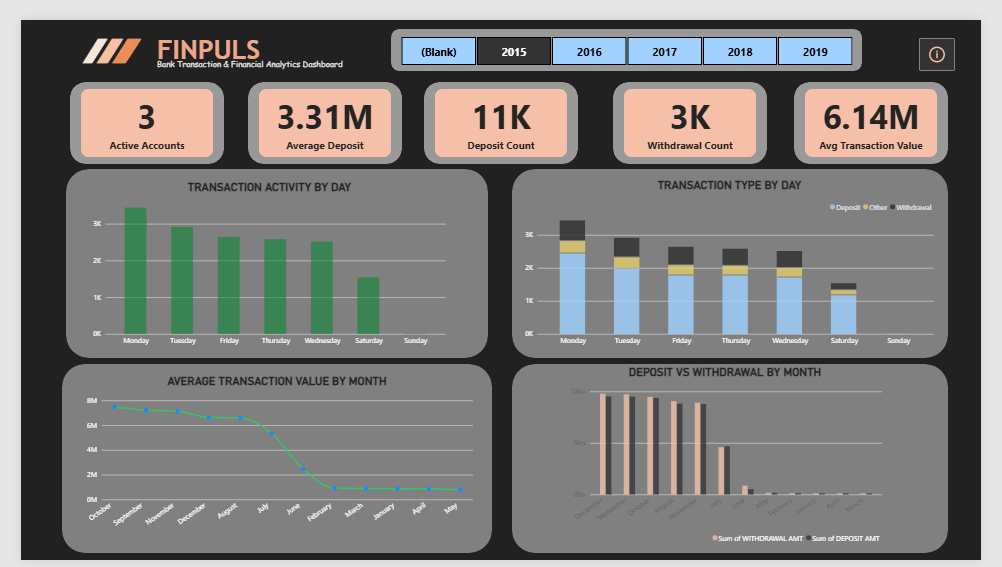

Layout of this report page (visuals, bound fields, positions):
{"tool":"powerbi","page":{"name":"Page 2","canvas":[1920,1080],"ordinal":1},"visuals":[{"type":"shape","box":[740,18,942,84],"z":0},{"type":"shape","box":[982,298,872,378],"z":1},{"type":"shape","box":[82,688,860,378],"z":2},{"type":"shape","box":[90,298,844,378],"z":3},{"type":"shape","box":[982,688,872,378],"z":4},{"type":"shape","box":[1546,124,308,164],"z":5},{"type":"shape","box":[1184,124,308,164],"z":6},{"type":"shape","box":[806,124,308,164],"z":7},{"type":"shape","box":[454,124,308,164],"z":8},{"type":"shape","box":[98,124,308,164],"z":9},{"type":"textbox","box":[272,28,214,96],"z":10},{"type":"textbox","box":[272,76,762.9,51.4],"z":11},{"type":"image","box":[58,0,246,124],"z":12},{"type":"cardVisual","fields":{"Data":["FinPulse_PowerBI.Active Accounts"]},"box":[120,138,264,136],"z":13},{"type":"cardVisual","fields":{"Data":["FinPulse_PowerBI.Average Deposit"]},"box":[476,138,264,136],"z":14},{"type":"cardVisual","fields":{"Data":["FinPulse_PowerBI.Deposit Count"]},"box":[828,138,264,136],"z":15},{"type":"cardVisual","fields":{"Data":["FinPulse_PowerBI.Withdrawal Count"]},"box":[1206,138,264,136],"z":16},{"type":"cardVisual","fields":{"Data":["FinPulse_PowerBI.Avg Transaction Value"]},"box":[1568,138,264,136],"z":17},{"type":"clusteredColumnChart","title":"TRANSACTION ACTIVITY BY DAY","fields":{"Category":["FinPulse_PowerBI.DAY NAME"],"Y":["CountNonNull(FinPulse_PowerBI.Account No)"]},"box":[144,320,706,336],"z":18},{"type":"columnChart","title":"TRANSACTION TYPE BY DAY","fields":{"Category":["FinPulse_PowerBI.DAY NAME"],"Series":["FinPulse_PowerBI.TRANSACTION TYPE"],"Y":["FinPulse_PowerBI.Total Transactions"]},"box":[1008,316,818,340],"z":19},{"type":"lineChart","title":"AVERAGE TRANSACTION VALUE BY MONTH","fields":{"Category":["FinPulse_PowerBI.MONTH NAME"],"Y":["FinPulse_PowerBI.Avg Transaction Value"]},"box":[120,708,784,322],"z":20},{"type":"clusteredColumnChart","title":"DEPOSIT VS WITHDRAWAL BY MONTH","fields":{"Category":["FinPulse_PowerBI.MONTH NAME"],"Y":["Sum(FinPulse_PowerBI.WITHDRAWAL AMT)","Sum(FinPulse_PowerBI.DEPOSIT AMT)"]},"box":[1094,690,628,360],"z":21},{"type":"slicer","fields":{"Values":["FinPulse_PowerBI.YEAR"]},"box":[740,32,942,60],"z":22},{"type":"actionButton","box":[1796,36,72,66],"z":23}]}

Visuals, with their boxes in screenshot pixels (x1, y1, x2, y2), scaled from the page's 1920x1080 canvas onto the 1002x567 screenshot:
shape: l=386, t=9, r=878, b=54
shape: l=512, t=156, r=968, b=355
shape: l=43, t=361, r=492, b=560
shape: l=47, t=156, r=487, b=355
shape: l=512, t=361, r=968, b=560
shape: l=807, t=65, r=968, b=151
shape: l=618, t=65, r=779, b=151
shape: l=421, t=65, r=581, b=151
shape: l=237, t=65, r=398, b=151
shape: l=51, t=65, r=212, b=151
textbox: l=142, t=15, r=254, b=65
textbox: l=142, t=40, r=540, b=67
image: l=30, t=0, r=159, b=65
cardVisual - FinPulse_PowerBI.Active Accounts: l=63, t=72, r=200, b=144
cardVisual - FinPulse_PowerBI.Average Deposit: l=248, t=72, r=386, b=144
cardVisual - FinPulse_PowerBI.Deposit Count: l=432, t=72, r=570, b=144
cardVisual - FinPulse_PowerBI.Withdrawal Count: l=629, t=72, r=767, b=144
cardVisual - FinPulse_PowerBI.Avg Transaction Value: l=818, t=72, r=956, b=144
"TRANSACTION ACTIVITY BY DAY" clusteredColumnChart: l=75, t=168, r=444, b=344
"TRANSACTION TYPE BY DAY" columnChart: l=526, t=166, r=953, b=344
"AVERAGE TRANSACTION VALUE BY MONTH" lineChart: l=63, t=372, r=472, b=541
"DEPOSIT VS WITHDRAWAL BY MONTH" clusteredColumnChart: l=571, t=362, r=899, b=551
slicer - FinPulse_PowerBI.YEAR: l=386, t=17, r=878, b=48
actionButton: l=937, t=19, r=975, b=54
